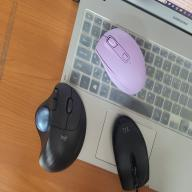mouse: (31, 72, 92, 179), (90, 13, 155, 104), (106, 109, 156, 191)
